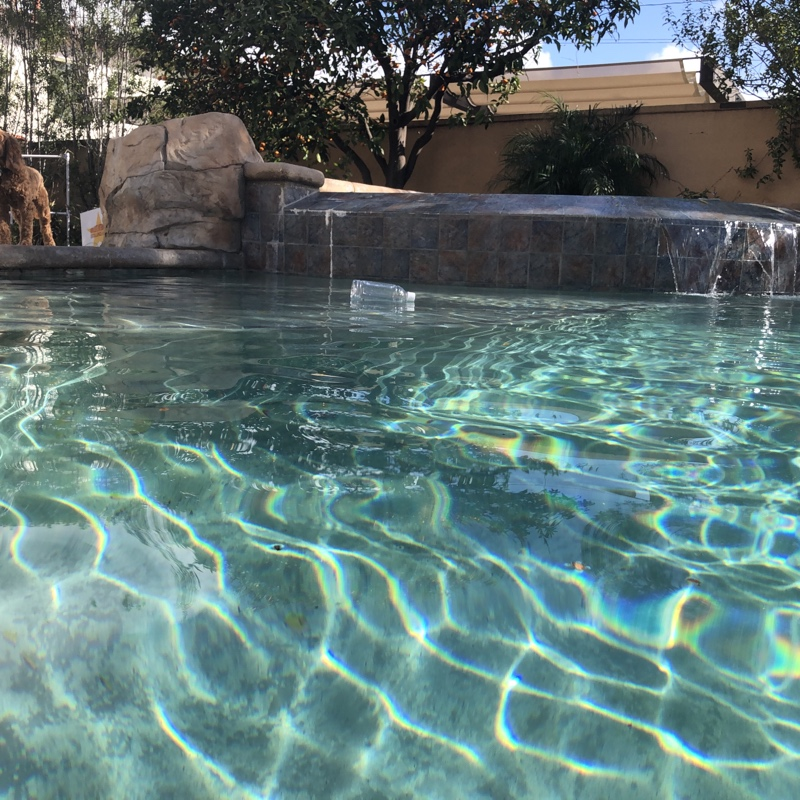Plastic Bottle: (347, 277, 417, 311)
